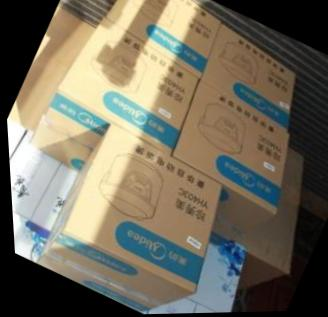cardboard: (39, 96, 246, 313), (16, 0, 219, 165), (181, 27, 291, 180)
